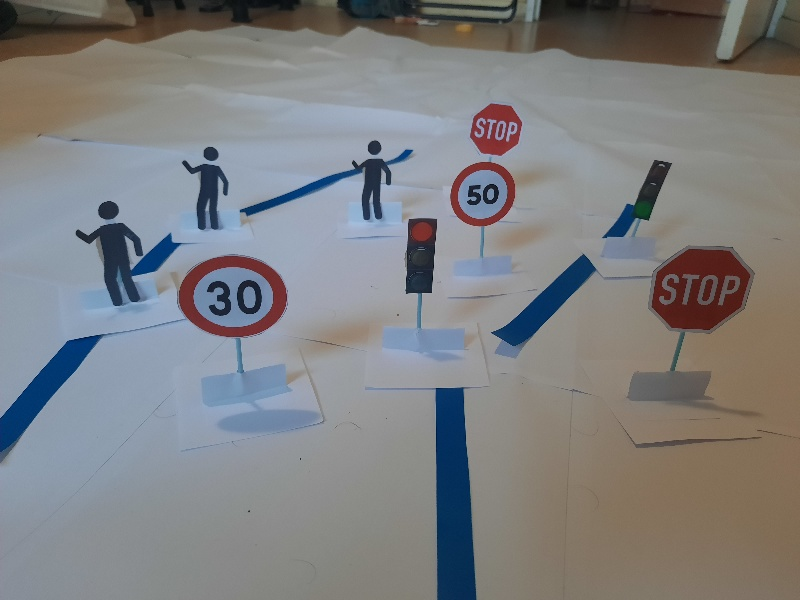Green: (632, 156, 671, 223)
Limit 30: (177, 254, 291, 338)
Limit 50: (450, 160, 521, 226)
Person: (73, 199, 146, 310), (179, 144, 230, 233), (349, 137, 394, 226)
Red: (404, 217, 436, 294)
Stop: (646, 242, 752, 331), (466, 101, 521, 157)
